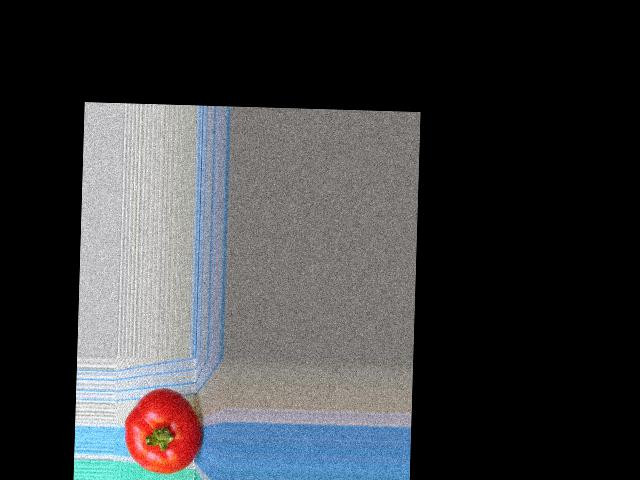tomato: (123, 387, 203, 475)
